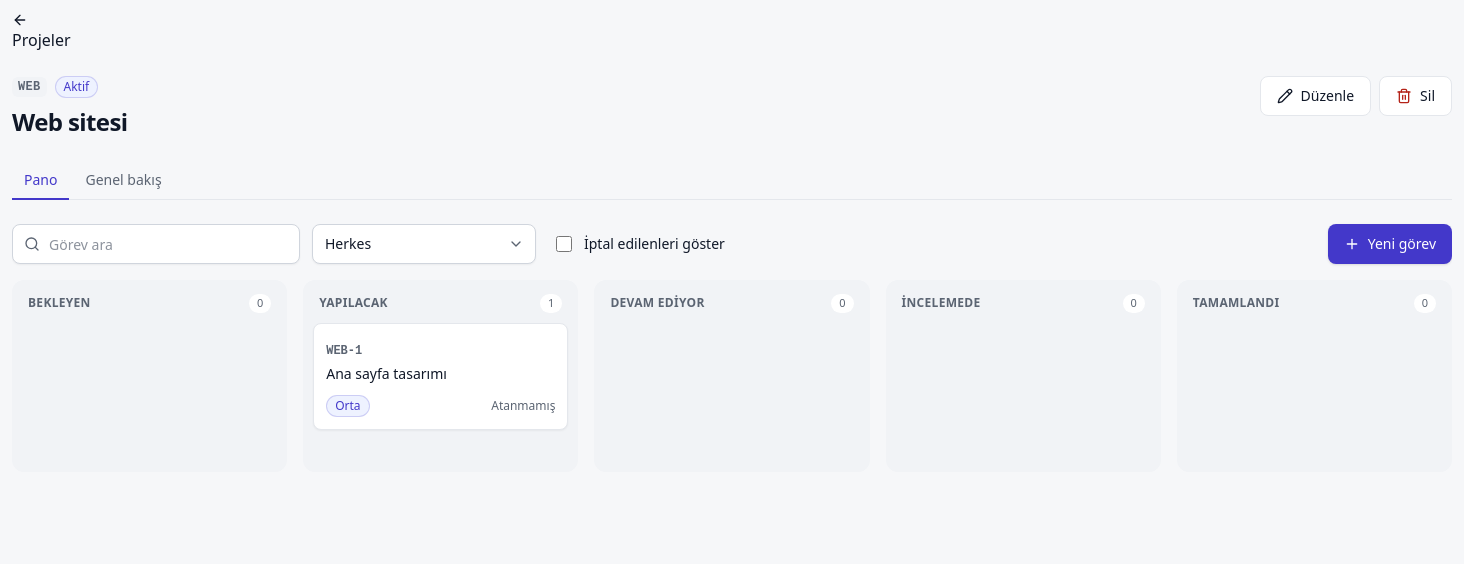
Scenario: ProjectDetailPage › shows the description and members on the overview tab
Expected: the heading "Web sitesi" is shown, [12,106,128,138]
Click the tab "Genel bakış": click(124, 181) [74,162,174,200]
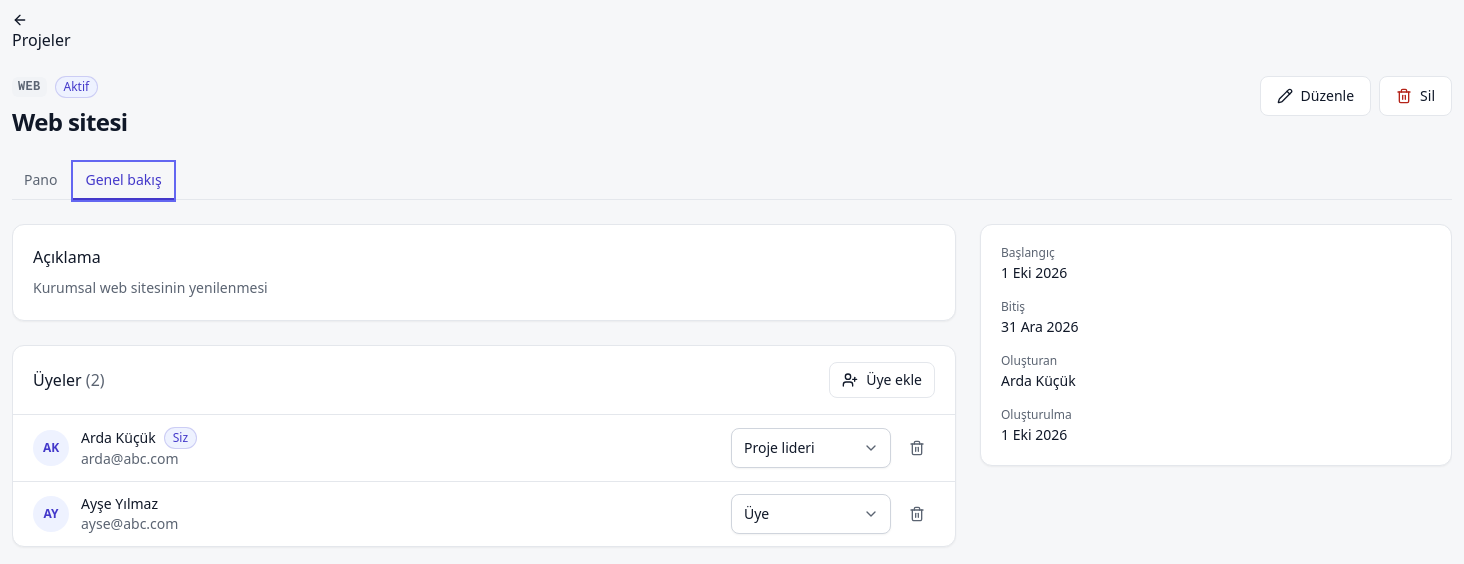
Expected: the text "Kurumsal web sitesinin yenilenmesi" is shown, [33,278,268,297]
Expected: the text "ayse@abc.com" is shown, [81,514,178,534]
